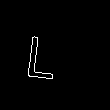L_N: (33, 26, 70, 80)
